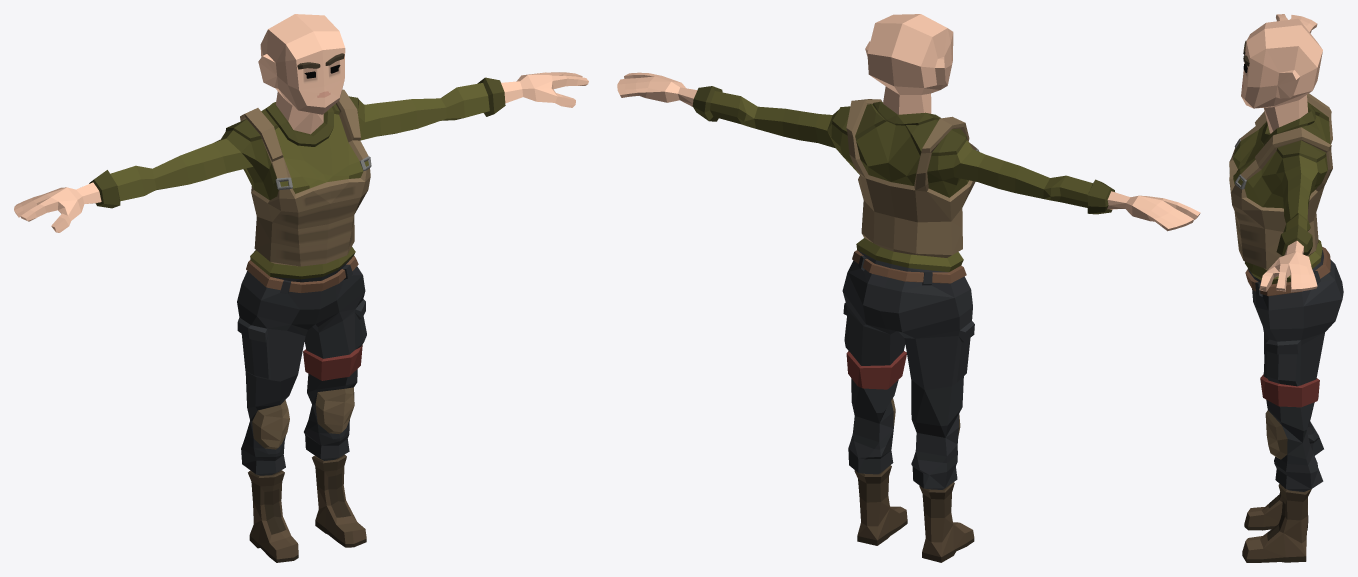
Rendered from SM_Chr_Insurgent_Female_01.fbx.
3 views of the same model, side by side, from view 1: azimuth 30°, elevation 25°; view 2: azimuth 150°, elevation 25°; view 3: azimuth 270°, elevation 25° (orthographic).
Visible parts, largest first — view 1: SM_Chr_Insurgent_Female_01; view 2: SM_Chr_Insurgent_Female_01; view 3: SM_Chr_Insurgent_Female_01.
Part boxes in pixels (x1,y1,x2,y2): SM_Chr_Insurgent_Female_01: (14, 14, 588, 562); SM_Chr_Insurgent_Female_01: (617, 14, 1200, 562); SM_Chr_Insurgent_Female_01: (1229, 14, 1343, 562).
Bounding box in the file's own units: 204 × 179 × 35.92.
